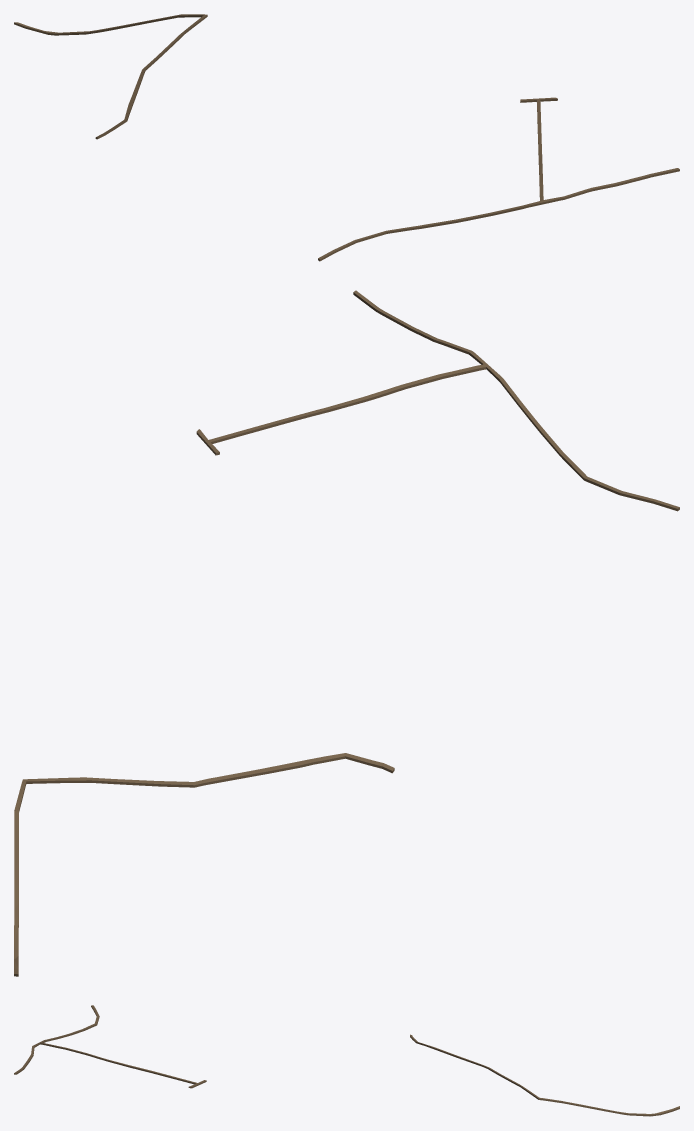
The picture shows the model from 3 angles, top to bottom: view 1: azimuth 30°, elevation 25°; view 2: azimuth 150°, elevation 25°; view 3: azimuth 270°, elevation 25°; orthographic projection. The views are drawn at different scales.
Size of the model in its own units: 117 by 54.32 by 308.
